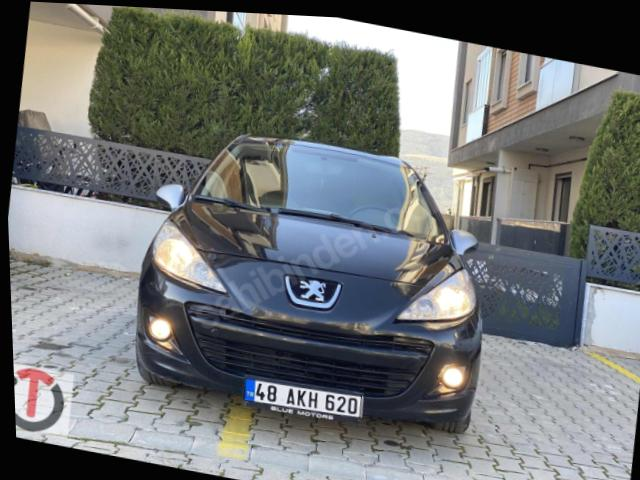plaka: (244, 378, 363, 418)
